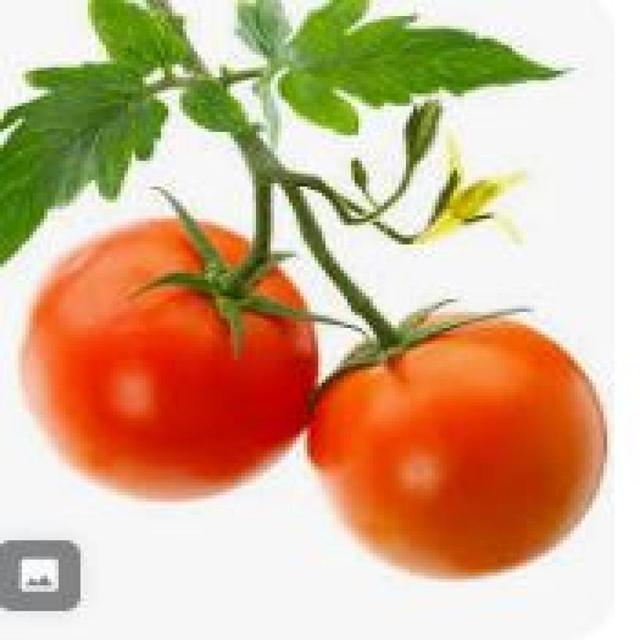Healthy Fruit: (115, 211, 311, 278)
